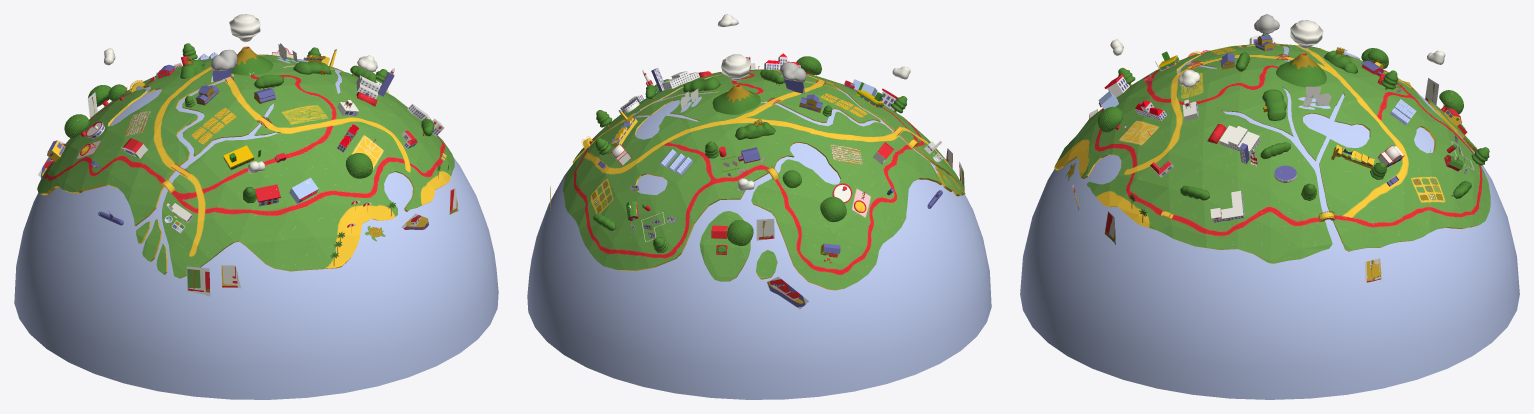
Rendered from world.glb.
3 views of the same model, side by side, from view 1: azimuth 30°, elevation 25°; view 2: azimuth 150°, elevation 25°; view 3: azimuth 270°, elevation 25° (orthographic). The views are drawn at different scales.
Visible parts, largest first — view 1: ICO球, ICO球.004, 26, 円柱.006, 平面.035, 平面.017, 08, 平面.022, 平面.055, 06, 05; view 2: ICO球, ICO球.004, 26, 円柱.006, 平面.040, 平面.018, 平面.022, 立方体.004, 16, 平面.055, 立方体.005; view 3: ICO球, ICO球.004, 26, 23, 円柱.006, 12, 立方体.005, 平面.017, 19.001.
Part boxes in pixels (x1=…): ICO球: x1=14, y1=58, x2=498, y2=399; ICO球.004: x1=37, y1=54, x2=454, y2=278; 26: x1=231, y1=46, x2=273, y2=75; 円柱.006: x1=229, y1=14, x2=260, y2=42; 平面.035: x1=186, y1=266, x2=210, y2=296; 平面.017: x1=346, y1=153, x2=372, y2=178; 08: x1=223, y1=145, x2=254, y2=170; 平面.022: x1=64, y1=114, x2=89, y2=138; 平面.055: x1=210, y1=49, x2=237, y2=71; 06: x1=289, y1=177, x2=318, y2=203; 05: x1=255, y1=184, x2=280, y2=206; ICO球: x1=527, y1=77, x2=991, y2=399; ICO球.004: x1=563, y1=69, x2=965, y2=290; 26: x1=712, y1=83, x2=760, y2=114; 円柱.006: x1=721, y1=54, x2=750, y2=81; 平面.040: x1=766, y1=276, x2=808, y2=309; 平面.018: x1=727, y1=220, x2=753, y2=245; 平面.022: x1=820, y1=197, x2=846, y2=222; 立方体.004: x1=735, y1=122, x2=775, y2=139; 16: x1=660, y1=149, x2=693, y2=175; 平面.055: x1=780, y1=62, x2=806, y2=81; 立方体.005: x1=683, y1=77, x2=720, y2=92; ICO球: x1=1020, y1=46, x2=1519, y2=399; ICO球.004: x1=1054, y1=43, x2=1490, y2=263; 26: x1=1276, y1=52, x2=1326, y2=87; 23: x1=1219, y1=125, x2=1260, y2=155; 円柱.006: x1=1290, y1=20, x2=1323, y2=48; 12: x1=1210, y1=190, x2=1244, y2=222; 立方体.005: x1=1262, y1=89, x2=1286, y2=120; 平面.017: x1=1098, y1=106, x2=1123, y2=132; 19.001: x1=1331, y1=145, x2=1374, y2=168.
Size of the model in its own units: 6.57 by 4 by 6.57.
Materials: 12 (12 with a texture image).
